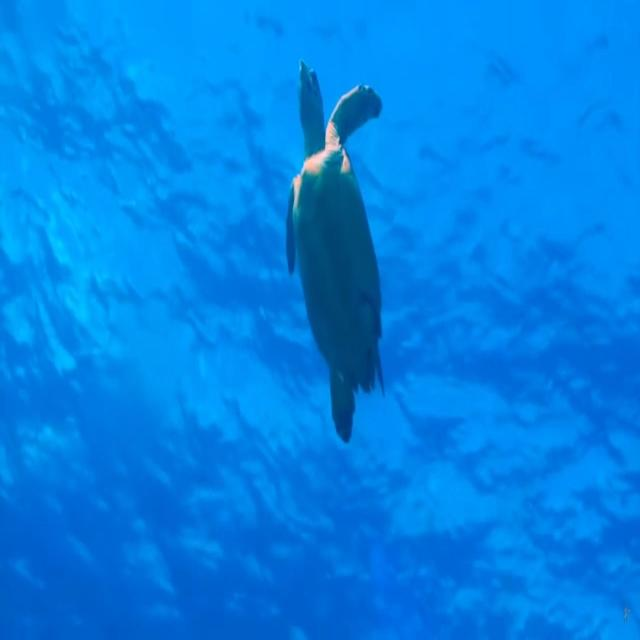Sea turtle: (284, 59, 386, 445)
